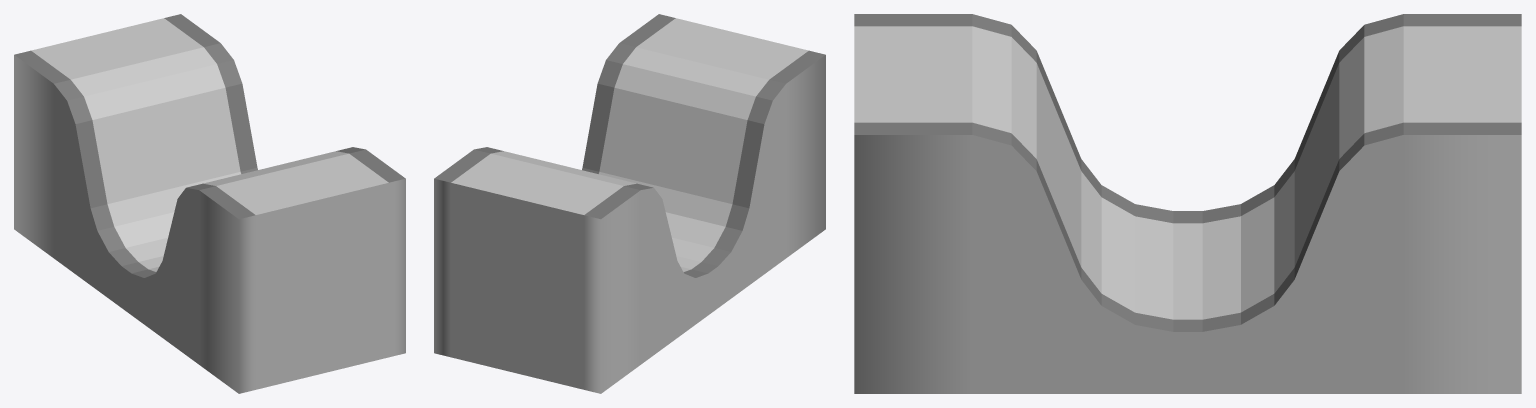
File: uhole.fbx
3 views of the same model, side by side, from view 1: azimuth 30°, elevation 25°; view 2: azimuth 150°, elevation 25°; view 3: azimuth 270°, elevation 25° (orthographic). The views are drawn at different scales.
Visible parts, largest first — view 1: UHole.016, UHole.005, UHole.002, UHole.004, UHole.003, UHole.015, UHole.006, UHole.007, UHole.013, UHole.008, UHole.014, UHole.009 (+3 smaller); view 2: UHole.002, UHole.013, UHole.016, UHole.014, UHole.015, UHole.003, UHole.012, UHole.011, UHole.005, UHole.010, UHole.004, UHole.009 (+3 smaller); view 3: UHole.002, UHole.016, UHole.003, UHole.015, UHole.005, UHole.013, UHole.004, UHole.014, UHole.008, UHole.010, UHole.007, UHole.011 (+3 smaller).
Boxes of the visible parts, x1=… form: UHole.016: x1=199, y1=149, x2=405, y2=393; UHole.005: x1=75, y1=83, x2=257, y2=284; UHole.002: x1=14, y1=14, x2=220, y2=258; UHole.004: x1=67, y1=60, x2=242, y2=273; UHole.003: x1=54, y1=43, x2=233, y2=267; UHole.015: x1=186, y1=147, x2=365, y2=364; UHole.006: x1=90, y1=167, x2=257, y2=289; UHole.007: x1=97, y1=212, x2=174, y2=298; UHole.013: x1=162, y1=199, x2=177, y2=348; UHole.008: x1=108, y1=237, x2=167, y2=307; UHole.014: x1=177, y1=188, x2=185, y2=354; UHole.009: x1=121, y1=256, x2=163, y2=314; UHole.002: x1=434, y1=149, x2=640, y2=393; UHole.013: x1=582, y1=83, x2=764, y2=284; UHole.016: x1=619, y1=14, x2=825, y2=258; UHole.014: x1=597, y1=60, x2=772, y2=273; UHole.015: x1=606, y1=43, x2=785, y2=267; UHole.003: x1=474, y1=147, x2=653, y2=364; UHole.012: x1=582, y1=167, x2=749, y2=289; UHole.011: x1=665, y1=212, x2=742, y2=298; UHole.005: x1=662, y1=199, x2=677, y2=348; UHole.010: x1=672, y1=237, x2=731, y2=307; UHole.004: x1=654, y1=188, x2=662, y2=354; UHole.009: x1=676, y1=256, x2=718, y2=314; UHole.002: x1=1403, y1=14, x2=1521, y2=393; UHole.016: x1=854, y1=14, x2=972, y2=393; UHole.003: x1=1364, y1=14, x2=1403, y2=393; UHole.015: x1=972, y1=14, x2=1011, y2=393; UHole.005: x1=1294, y1=51, x2=1339, y2=393; UHole.013: x1=1036, y1=51, x2=1081, y2=393; UHole.004: x1=1339, y1=25, x2=1364, y2=393; UHole.014: x1=1011, y1=25, x2=1036, y2=393; UHole.008: x1=1202, y1=204, x2=1240, y2=393; UHole.010: x1=1135, y1=204, x2=1173, y2=393; UHole.007: x1=1241, y1=185, x2=1274, y2=393; UHole.011: x1=1101, y1=185, x2=1134, y2=393.
Size of the model in its own units: 2 by 4.67 by 2.
